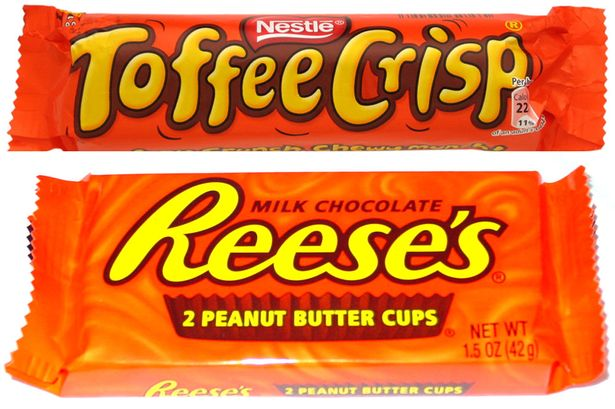reese: (16, 171, 604, 397)
